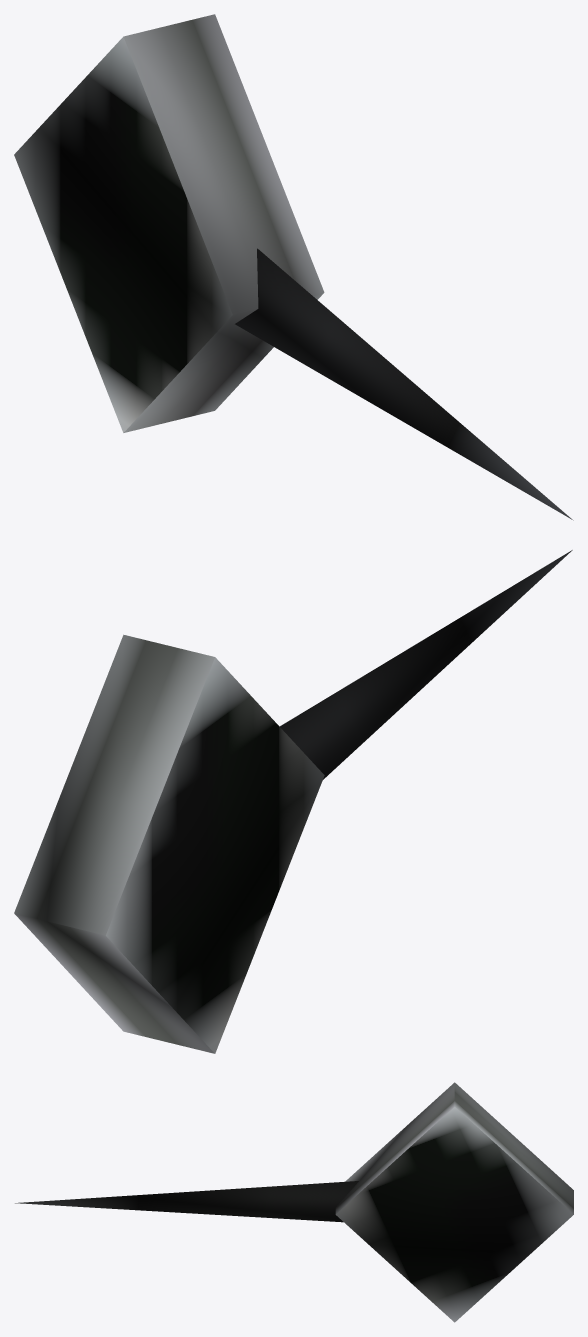
Rendered from imperial_gunboat_turretbody_wing_l3.fbx.
3 views of the same model, one above another, from view 1: azimuth 30°, elevation 25°; view 2: azimuth 150°, elevation 25°; view 3: azimuth 270°, elevation 25° (orthographic). The views are drawn at different scales.
Parts seen in each view (by area): view 1: mesh_node; view 2: mesh_node; view 3: mesh_node.
Boxes of the visible parts, left/top/right/bottom form: mesh_node: left=14, top=14, right=573, bottom=520; mesh_node: left=14, top=550, right=572, bottom=1053; mesh_node: left=15, top=1082, right=573, bottom=1322.
Bounding box in the file's own units: 0.8673 × 3.59 × 8.42.
1 material, 1 textured.
